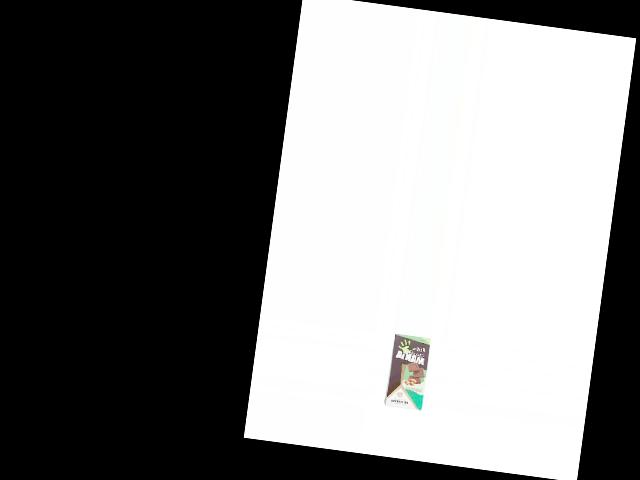chocolate: (382, 332, 433, 412)
